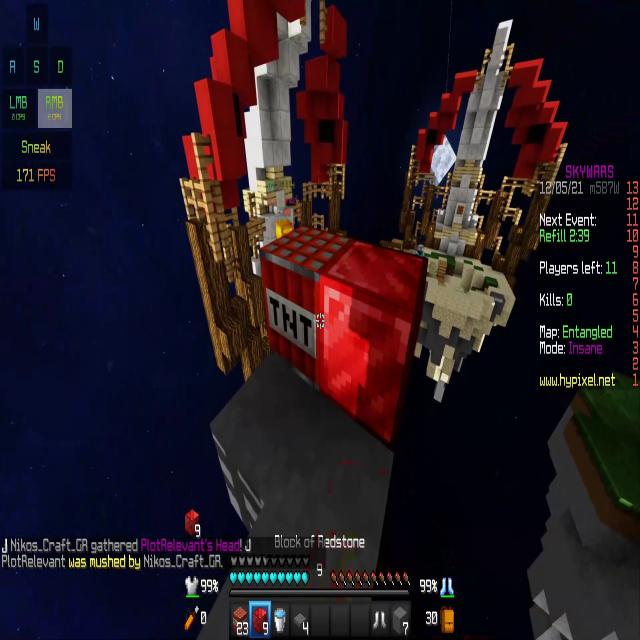Player: (274, 215, 295, 247), (413, 236, 429, 267)
